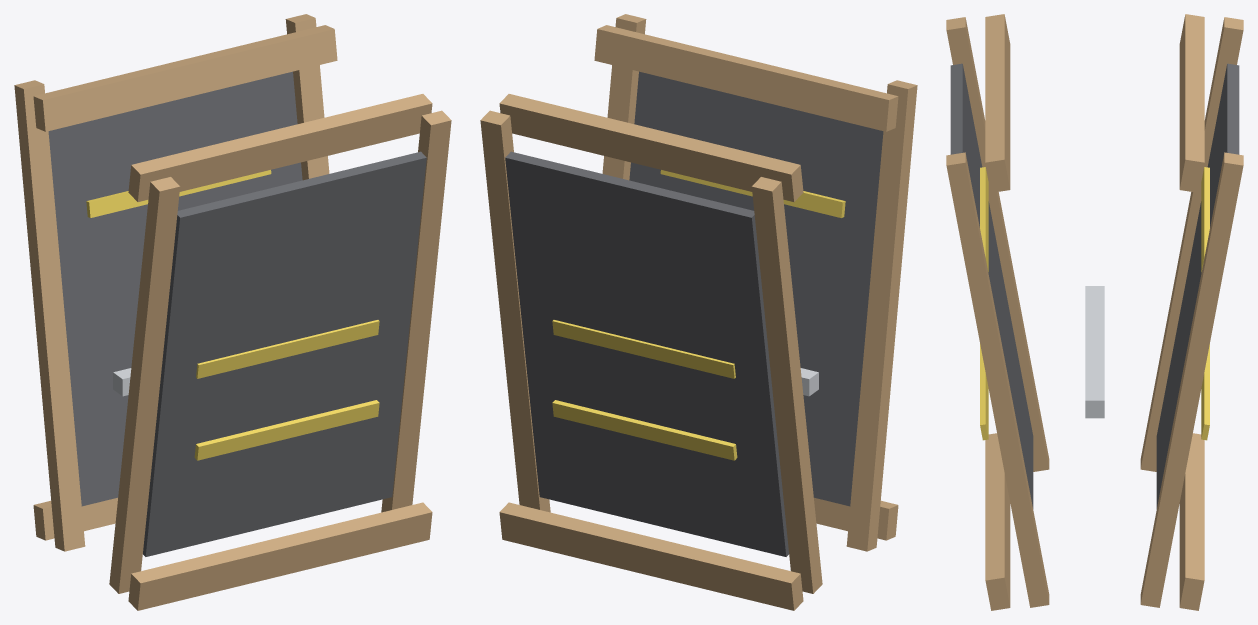
The model's file is street-food-market-and-food-trucks-chalkboard-a-frame-a054a8a9__34294.glb.
3 renders of one model, left to right at view 1: azimuth 30°, elevation 25°; view 2: azimuth 150°, elevation 25°; view 3: azimuth 270°, elevation 25°, orthographic. The views are drawn at different scales.
Parts seen in each view (by area): view 1: chalkboard-a-frame-charcoal, chalkboard-a-frame-timber, chalkboard-a-frame-canary; view 2: chalkboard-a-frame-charcoal, chalkboard-a-frame-timber, chalkboard-a-frame-canary; view 3: chalkboard-a-frame-timber, chalkboard-a-frame-charcoal, chalkboard-a-frame-canary, chalkboard-a-frame-steel.
Part boxes in pixels (x1,y1,x2,y2): chalkboard-a-frame-charcoal: (48, 71, 426, 556); chalkboard-a-frame-timber: (14, 14, 451, 610); chalkboard-a-frame-canary: (86, 170, 379, 460); chalkboard-a-frame-charcoal: (505, 71, 883, 556); chalkboard-a-frame-timber: (480, 14, 917, 610); chalkboard-a-frame-canary: (552, 170, 845, 460); chalkboard-a-frame-timber: (946, 14, 1243, 610); chalkboard-a-frame-charcoal: (950, 63, 1239, 508); chalkboard-a-frame-canary: (980, 167, 1209, 440); chalkboard-a-frame-steel: (1085, 286, 1104, 418).
Bounding box in the file's own units: 0.7101 × 1.03 × 0.612.
